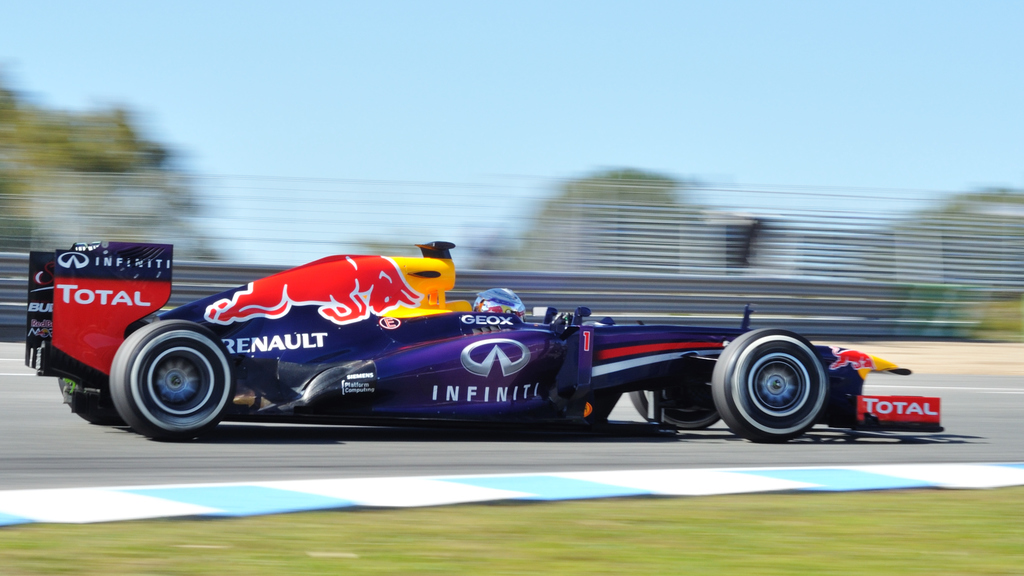Car: (34, 228, 936, 441)
